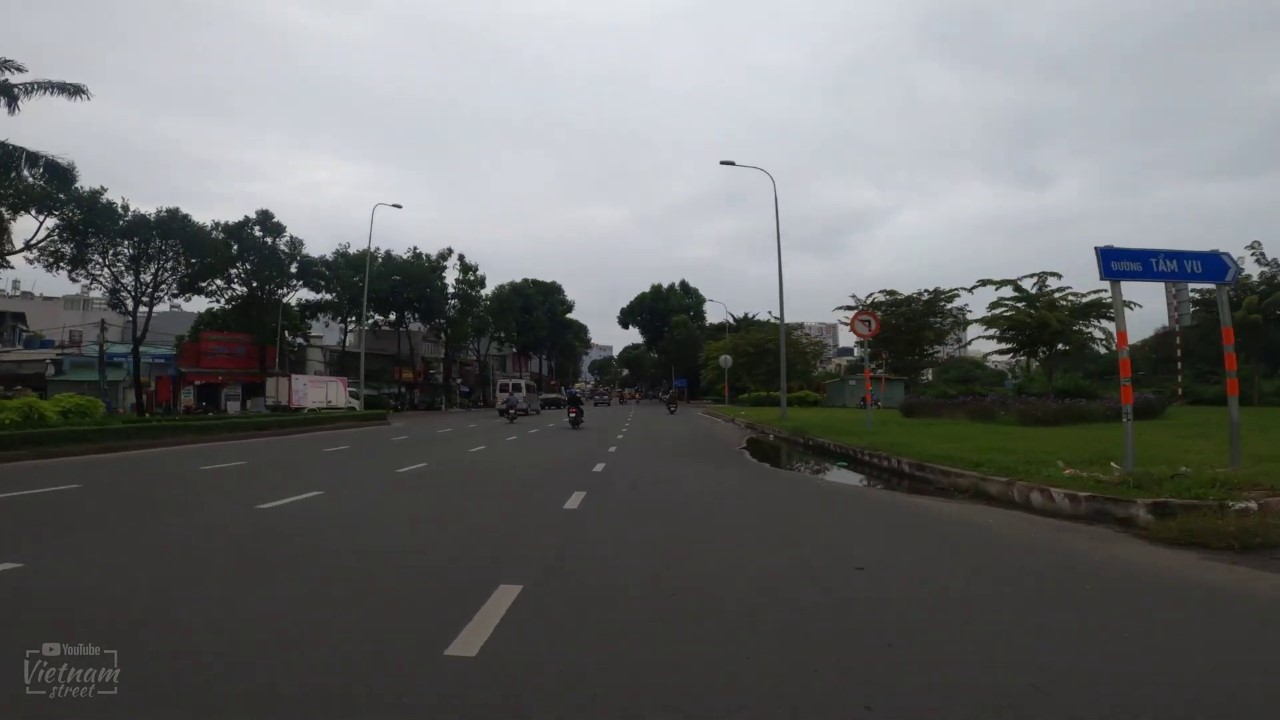cam_re_trai: (850, 310, 881, 339)
